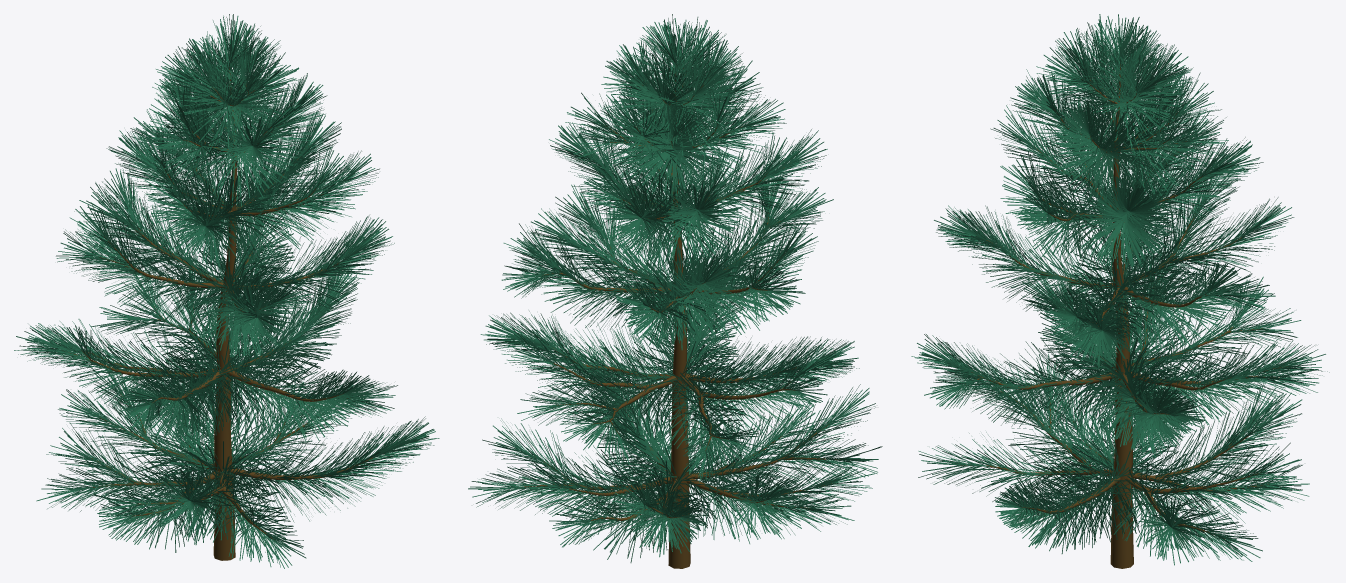
File: small_pine_3.glb
3 renders of one model, left to right at view 1: azimuth 30°, elevation 25°; view 2: azimuth 150°, elevation 25°; view 3: azimuth 270°, elevation 25°, orthographic. The views are drawn at different scales.
Parts seen in each view (by area): view 1: leaves, tree; view 2: leaves, tree; view 3: leaves, tree.
Part boxes in pixels (x1,y1,x2,y2): leaves: (14, 14, 439, 568); tree: (68, 67, 374, 560); leaves: (468, 14, 882, 562); tree: (517, 68, 840, 568); leaves: (911, 14, 1329, 565); tree: (960, 64, 1287, 568).
Bounding box in the file's own units: 3.71 × 5.57 × 3.85.
